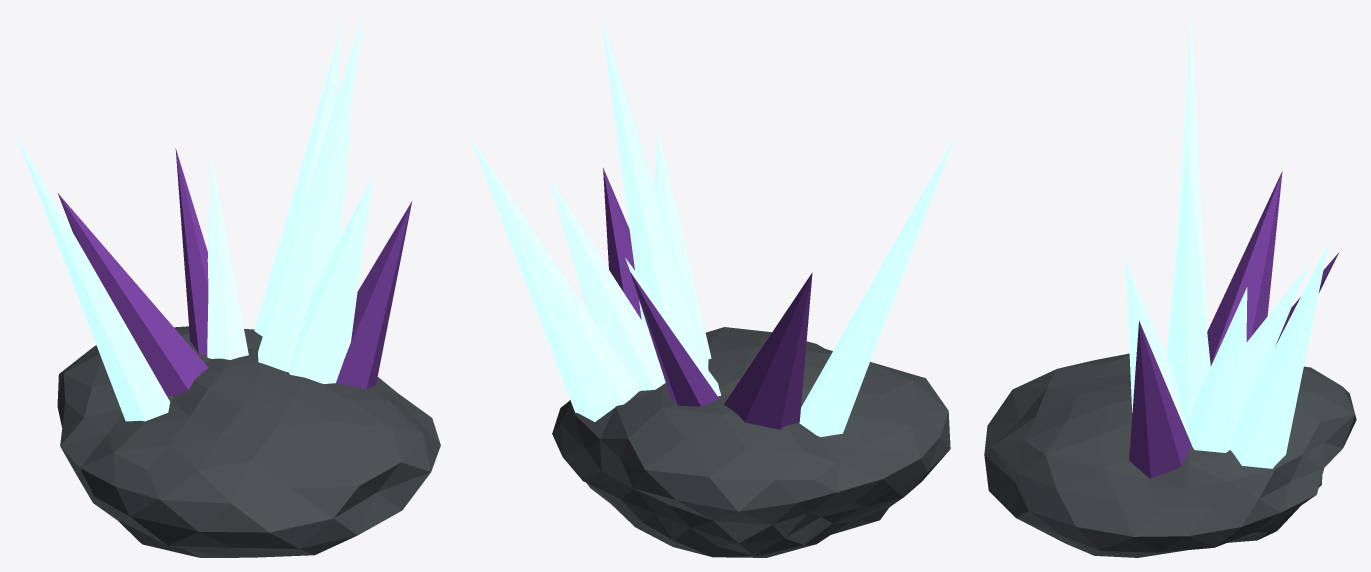
File: crystal_cluster.fbx
3 renders of one model, left to right at view 1: azimuth 30°, elevation 25°; view 2: azimuth 150°, elevation 25°; view 3: azimuth 270°, elevation 25°, orthographic. The views are drawn at different scales.
Visible parts, largest first — view 1: crystal_cluster; view 2: crystal_cluster; view 3: crystal_cluster.
Part boxes in pixels (x1,y1,x2,y2): crystal_cluster: (14,14,440,557); crystal_cluster: (470,14,954,557); crystal_cluster: (984,16,1356,557).
Bounding box in the file's own units: 1.48 × 1.65 × 1.25.
